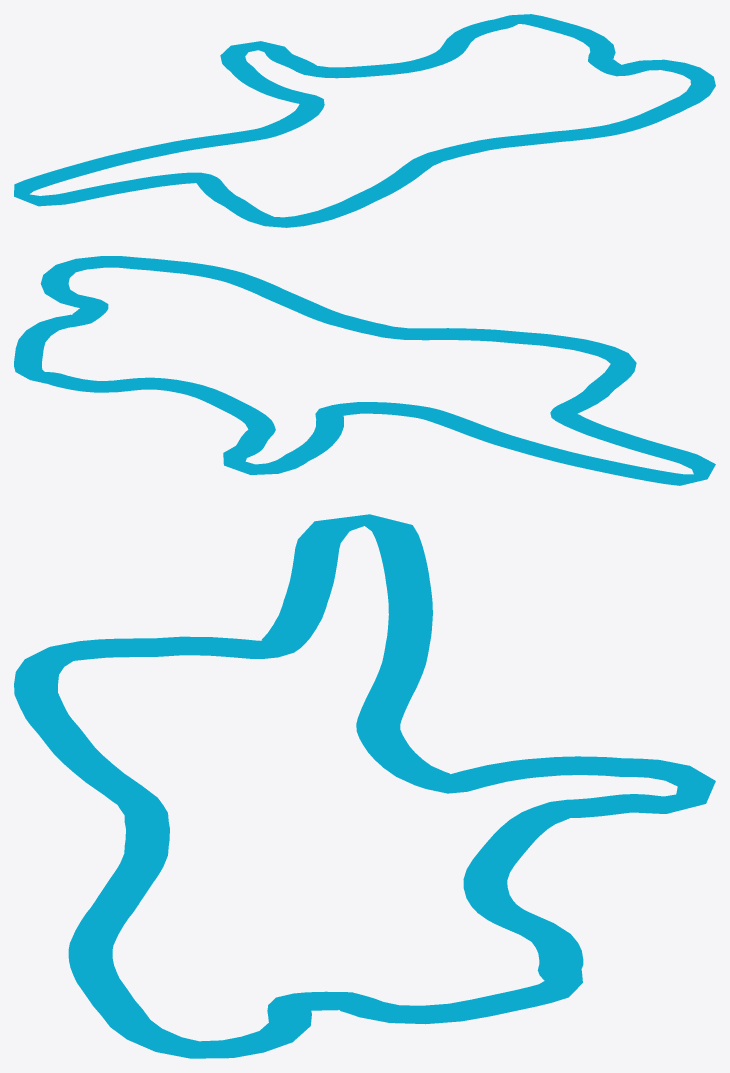
File: foam.fbx
3 renders of one model, top to bottom at view 1: azimuth 30°, elevation 25°; view 2: azimuth 150°, elevation 25°; view 3: azimuth 270°, elevation 25°, orthographic. The views are drawn at different scales.
Visible parts, largest first — view 1: polySurface30; view 2: polySurface30; view 3: polySurface30.
Boxes of the visible parts, box(x1,y1,x2,y2) form: polySurface30: box(14, 14, 715, 227); polySurface30: box(14, 256, 715, 485); polySurface30: box(14, 514, 715, 1058).
Size of the model in its own units: 30.7 by 2.38e-07 by 16.73.
